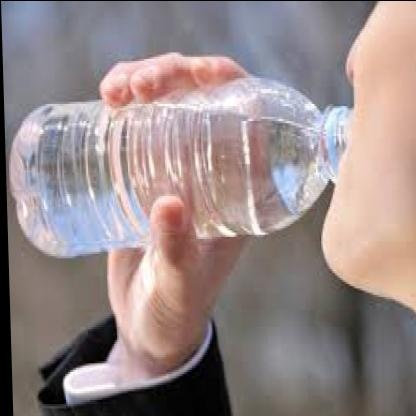trash: (10, 75, 348, 256)
